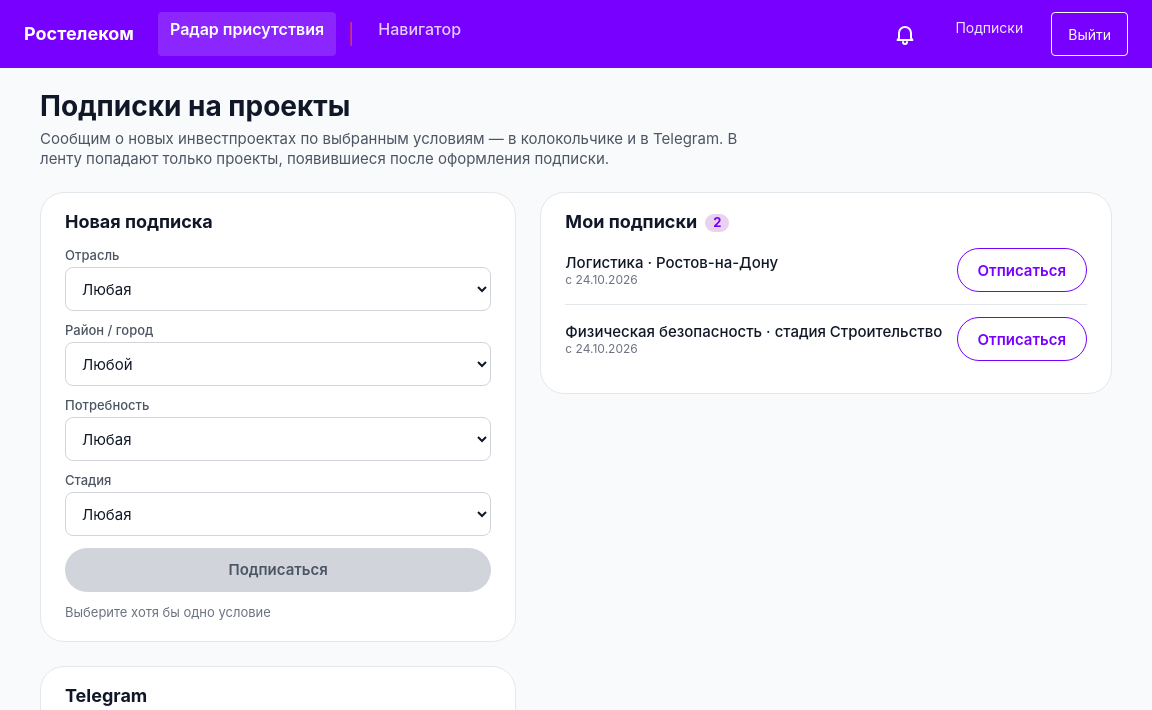
SubscriptionsPage › пустая форма — кнопка неактивна; с отраслью — создаёт
Expected: the button "Подписаться" is disabled, left=65, top=548, right=491, bottom=592
Select "ИТ" in the dropdown labelled "Отрасль" at x=278, y=289, box left=65, top=267, right=491, bottom=311
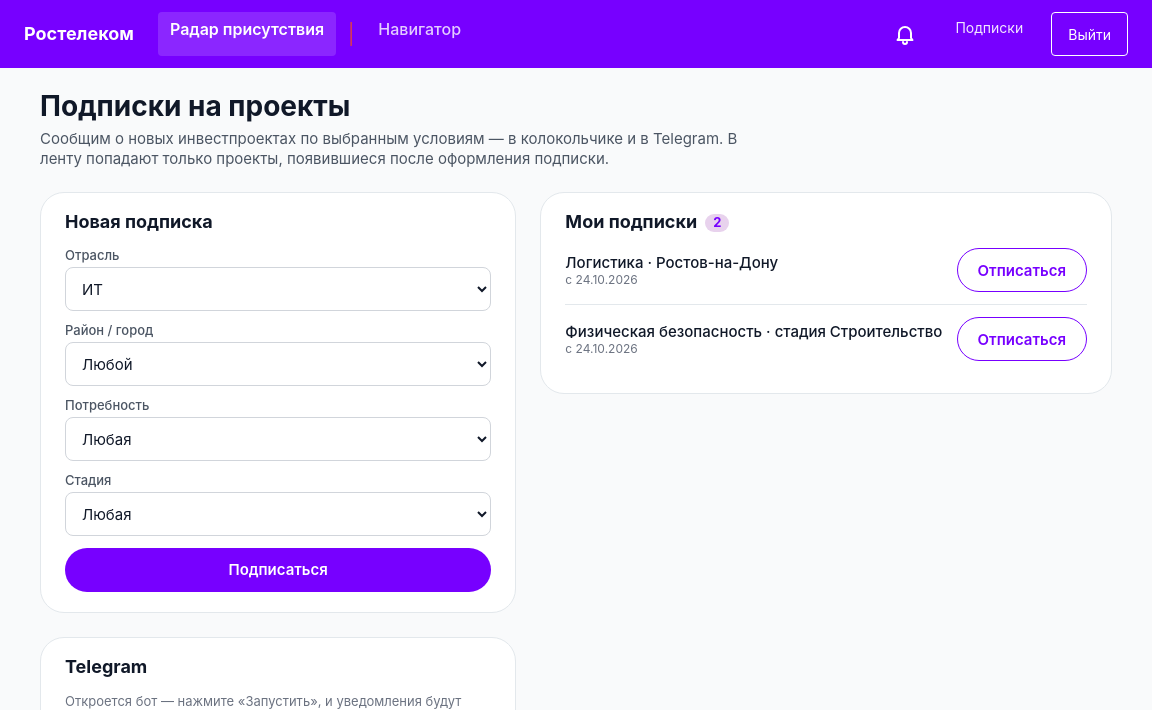
Now the button "Подписаться" is enabled
Click the button "Подписаться" at x=278, y=570, box left=65, top=548, right=491, bottom=592
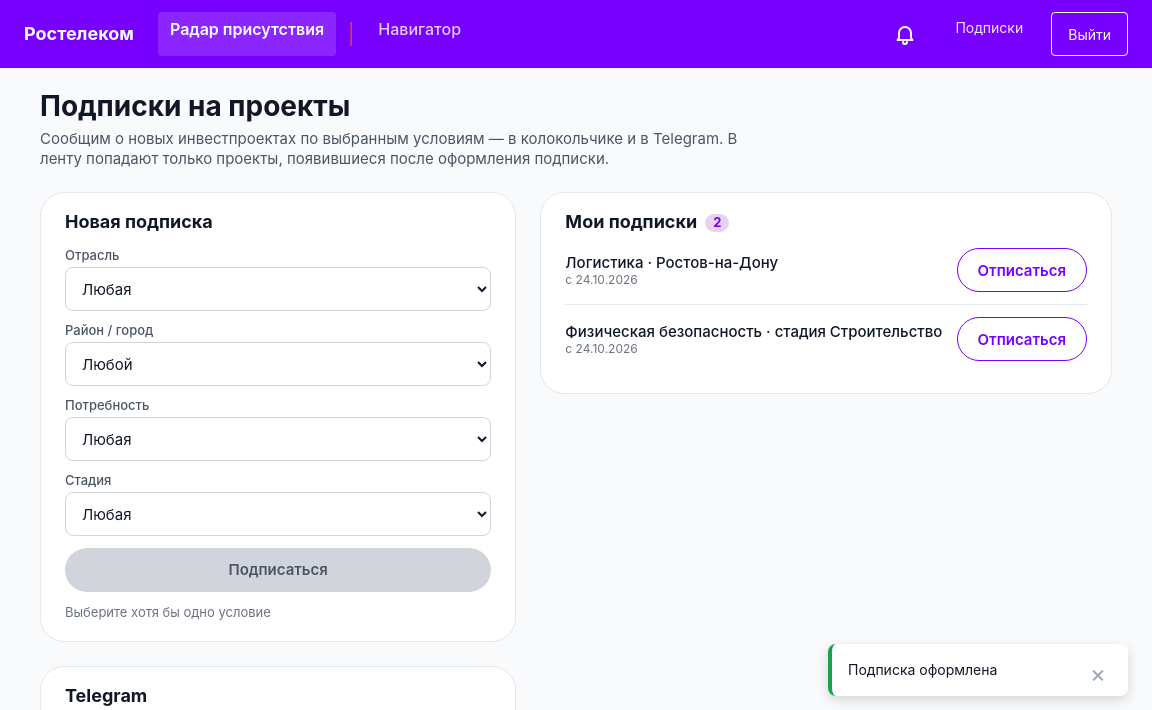
Now the text "Подписка оформлена" is shown, box left=848, top=661, right=997, bottom=678
